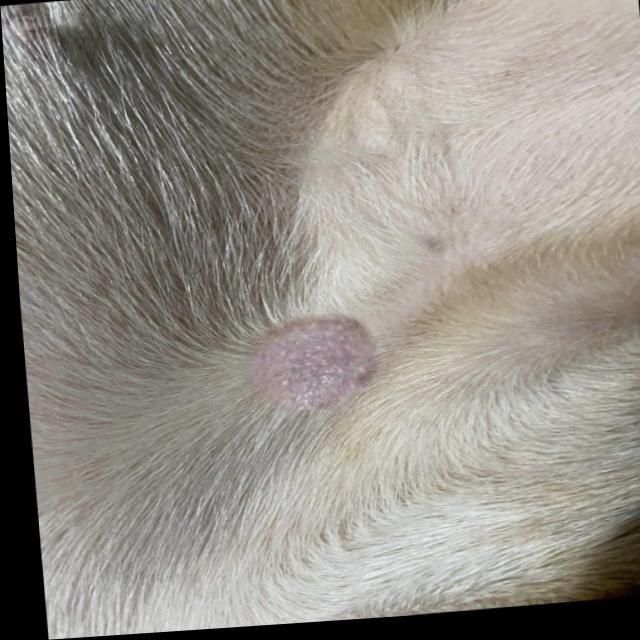ringworm: (237, 256, 422, 445)
